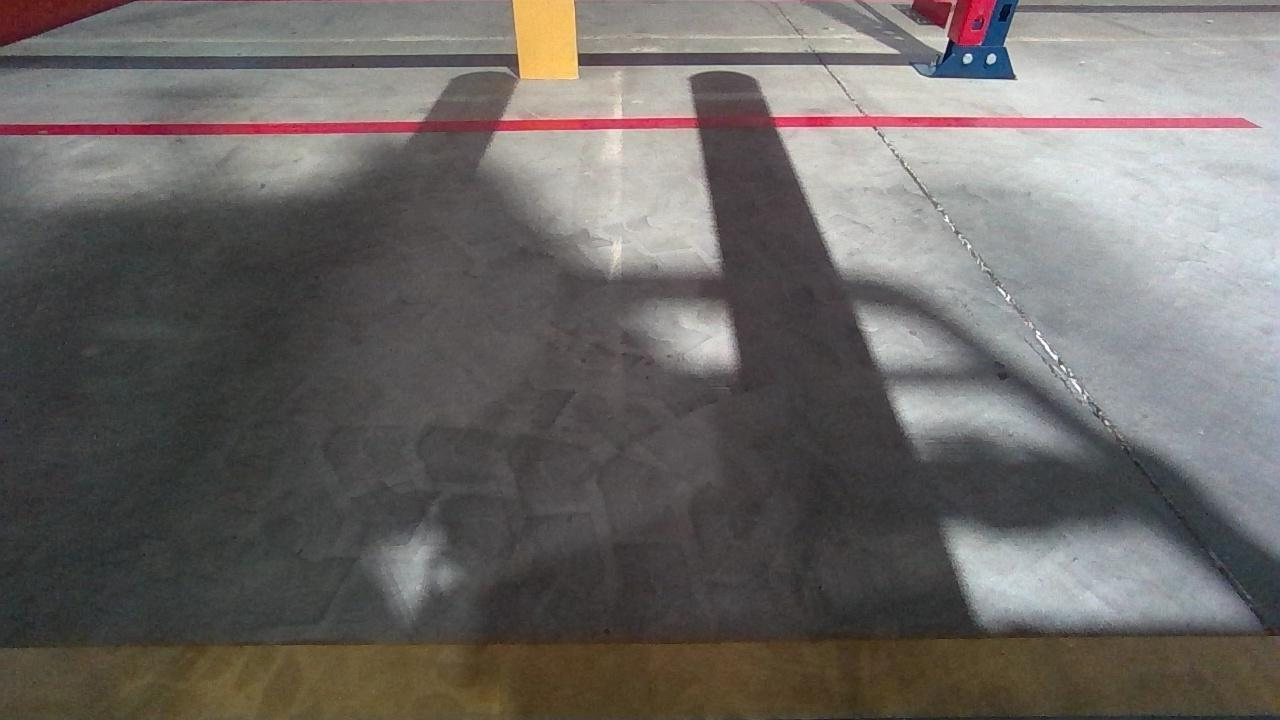red_line: (2, 115, 1253, 136)
yellow_line: (0, 638, 1280, 720)
